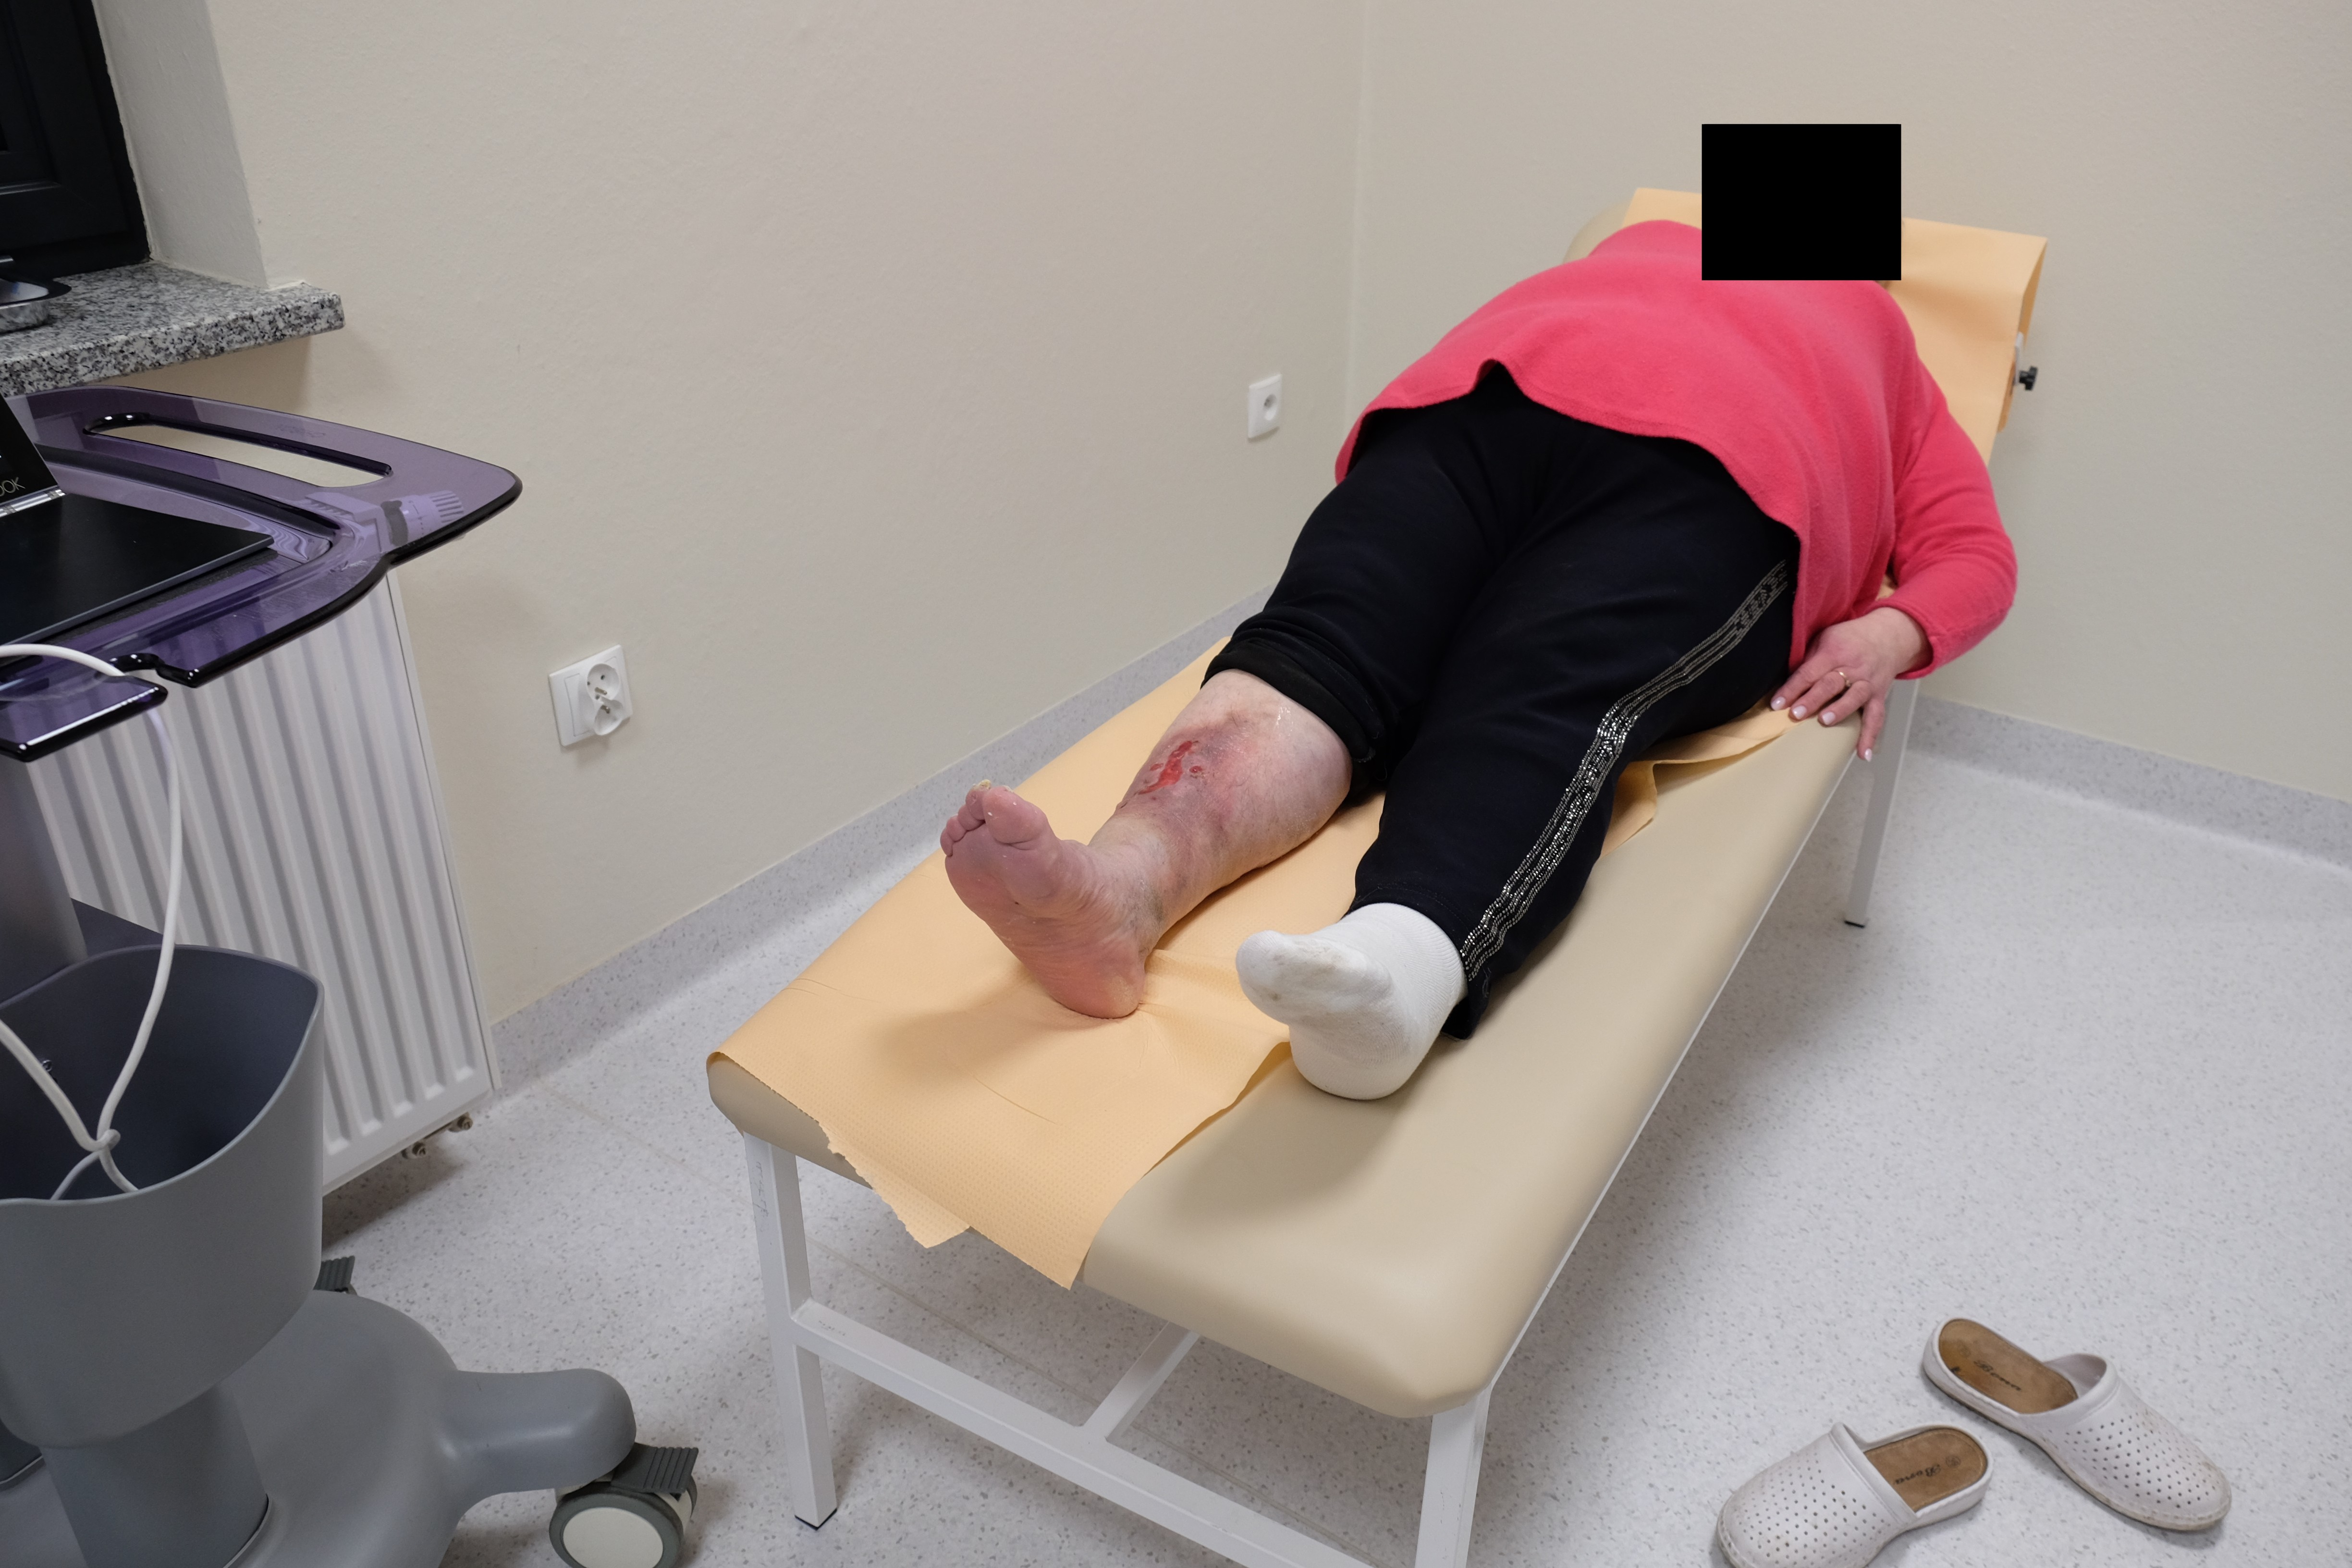wound: (1130, 735, 1211, 798)
